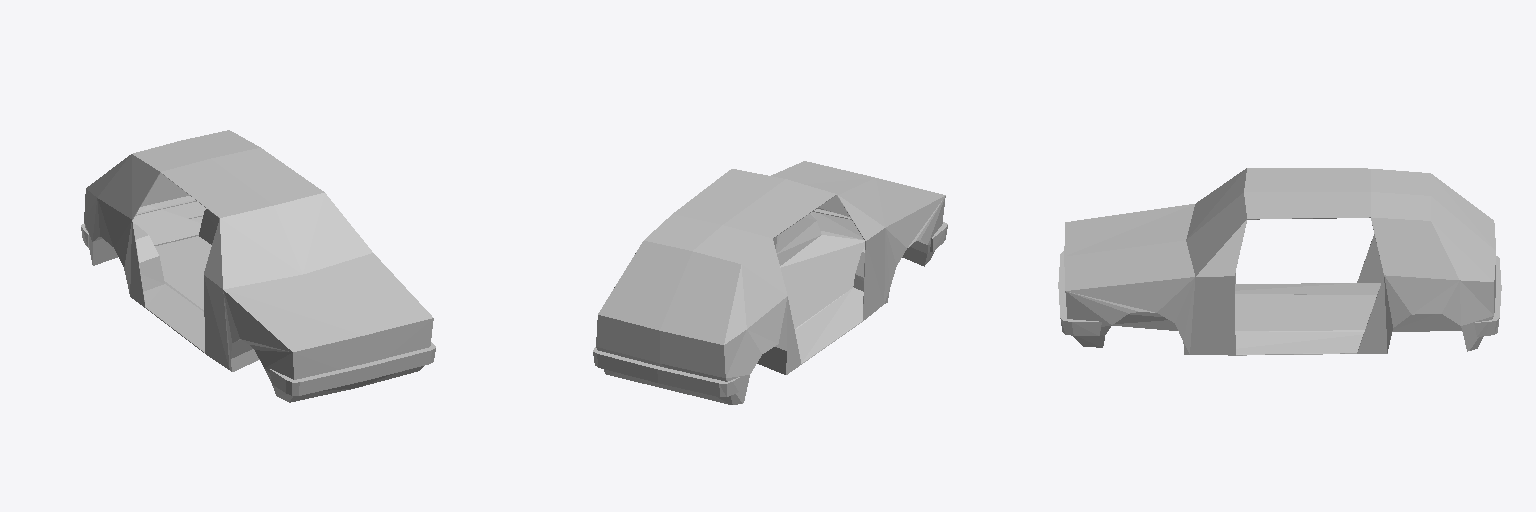
The model's file is car_cricket_red_body.obj.
The picture shows the model from 3 angles: view 1: azimuth 30°, elevation 25°; view 2: azimuth 150°, elevation 25°; view 3: azimuth 270°, elevation 25°; orthographic projection.
Parts seen in each view (by area): view 1: Car3.Body; view 2: Car3.Body; view 3: Car3.Body.
Boxes of the visible parts, x1,y1,x2,y2 form: Car3.Body: [81, 130, 435, 402]; Car3.Body: [593, 161, 947, 404]; Car3.Body: [1058, 168, 1501, 355].
Bounding box in the file's own units: 2.26 × 1.79 × 5.61.